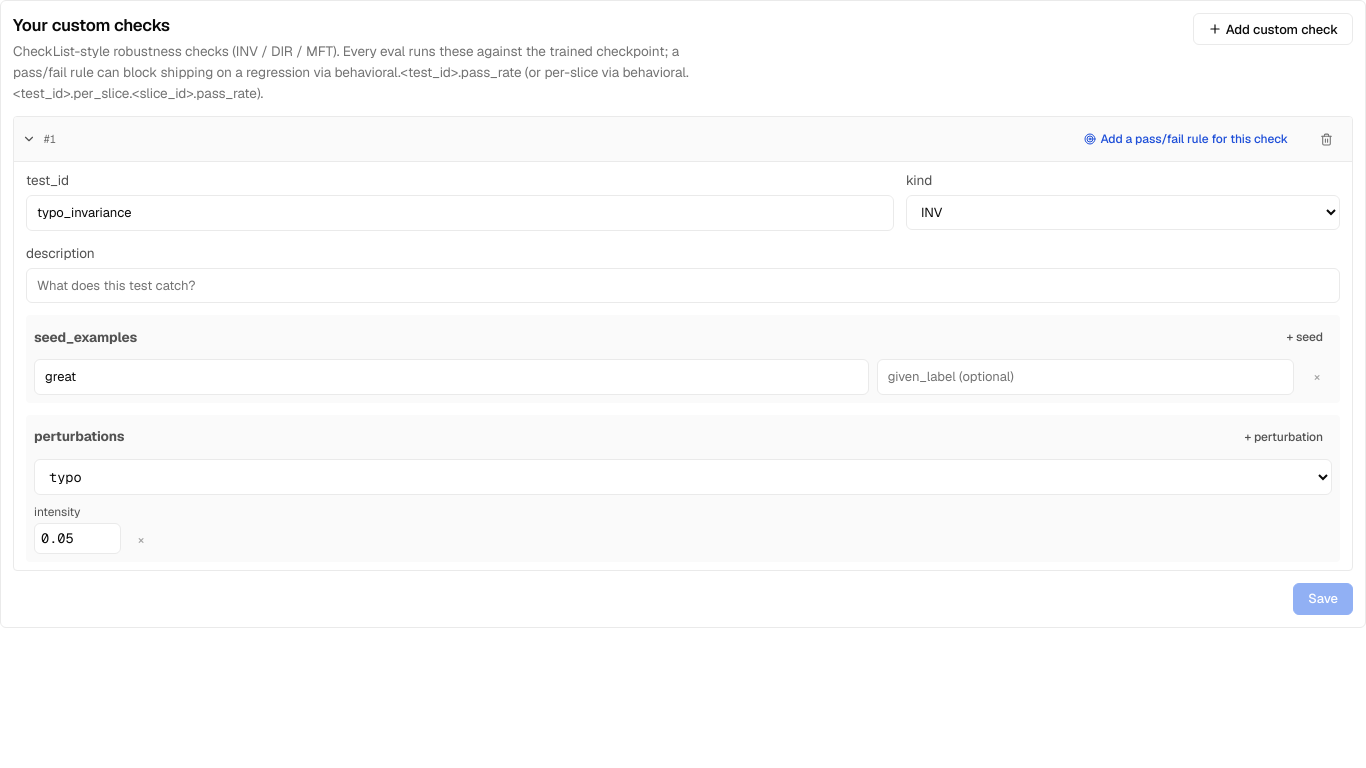
Scenario: BehavioralTestsSection › Gate-this-test modal omits the per-slice section when no slices configured
This screenshot has width=1366, height=768.
Check: the field with test id "bt-item-0-id" is shown, box [26,195,894,231]
Step 1. Click the button with test id "bt-gate-typo_invariance" → coordinates (1186, 139), box [1075,125,1297,153]
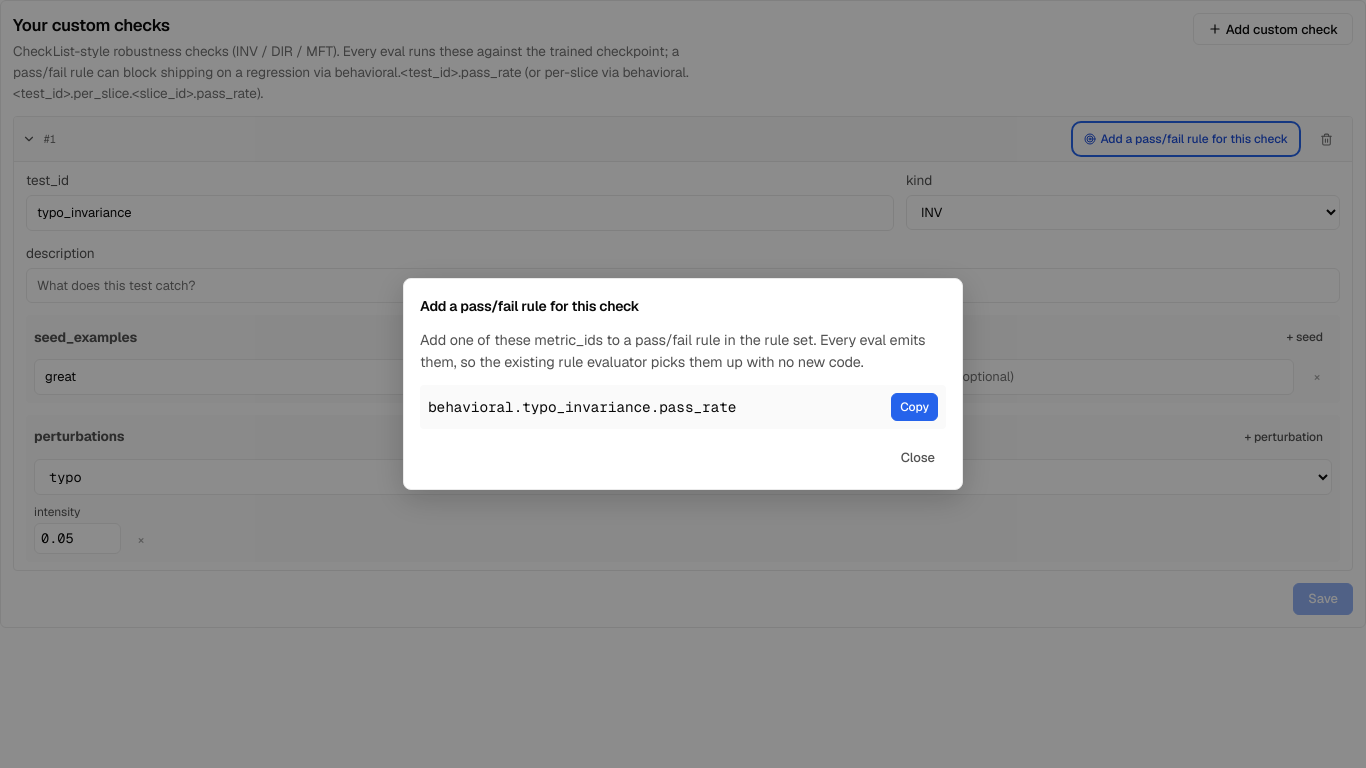
Check: the text "behavioral.typo_invariance.pass_rate" is shown, box [428,398,736,416]
